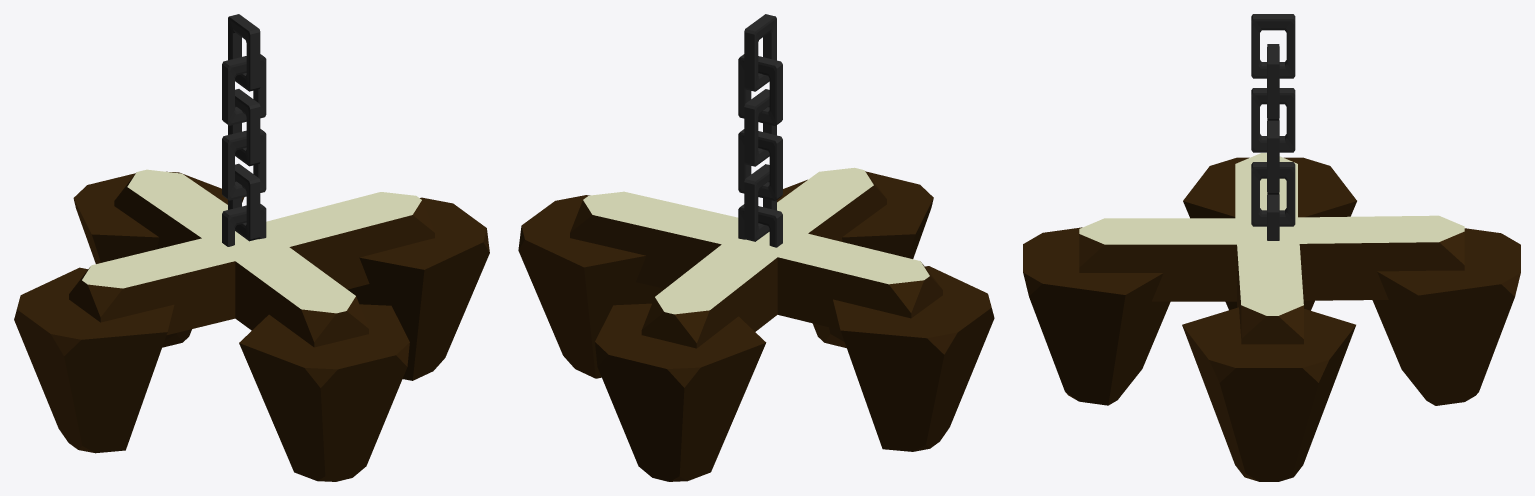
Rendered from Lanturn.fbx.
3 renders of one model, left to right at view 1: azimuth 30°, elevation 25°; view 2: azimuth 150°, elevation 25°; view 3: azimuth 270°, elevation 25°, orthographic.
Visible parts, largest first — view 1: Lanturn, Chain; view 2: Lanturn, Chain; view 3: Lanturn, Chain.
Part boxes in pixels (<box>): Lanturn: <box>14,169,489,481</box>; Chain: <box>222,14,266,246</box>; Lanturn: <box>518,167,994,481</box>; Chain: <box>738,14,782,247</box>; Lanturn: <box>1023,153,1520,481</box>; Chain: <box>1251,14,1295,240</box>.
Bounding box in the file's own units: 86.56 × 72.22 × 86.56.
